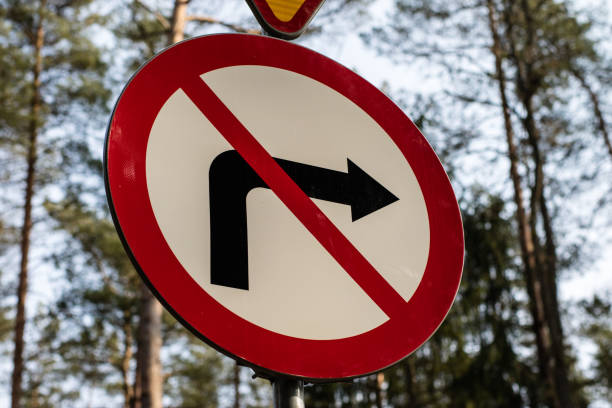saga_girilmez: (106, 31, 466, 379)
